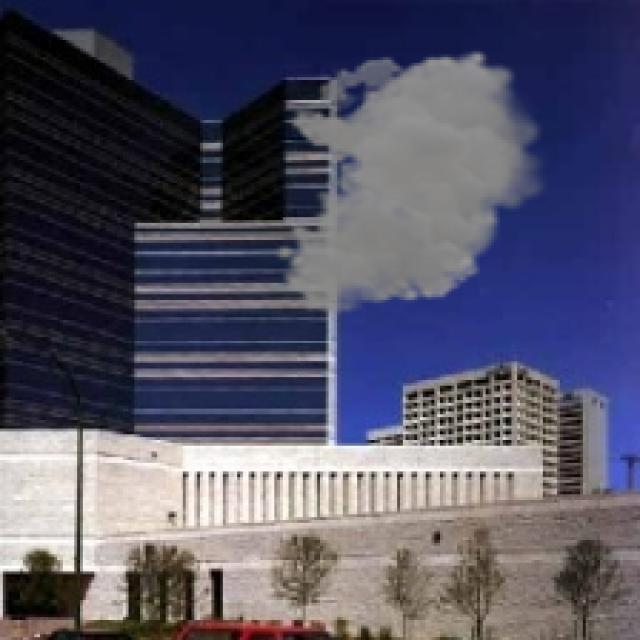Smoke: (274, 48, 554, 314)
